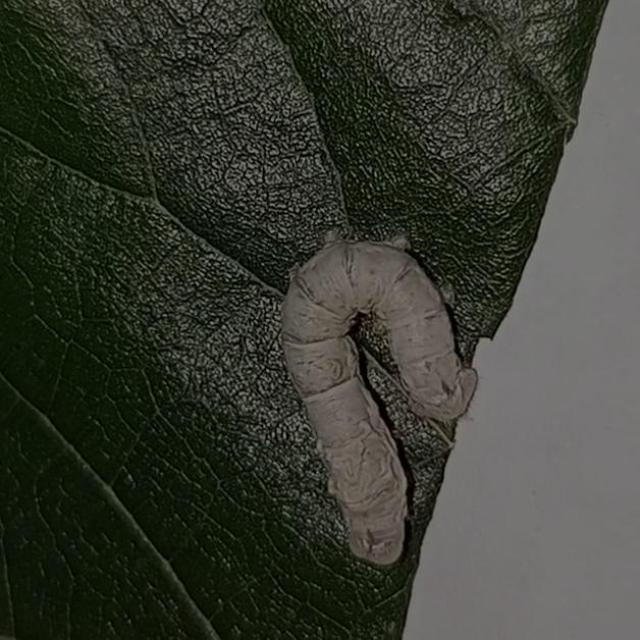Healthy: (227, 194, 547, 597)
